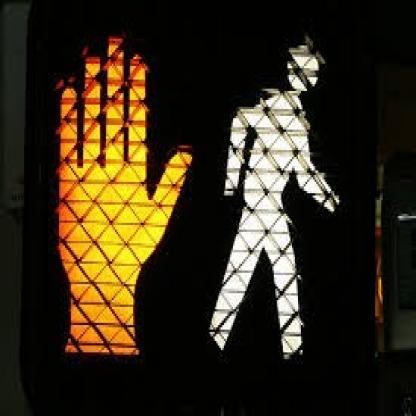Don-t Walk: (50, 0, 183, 385)
Walk: (194, 4, 356, 392)
